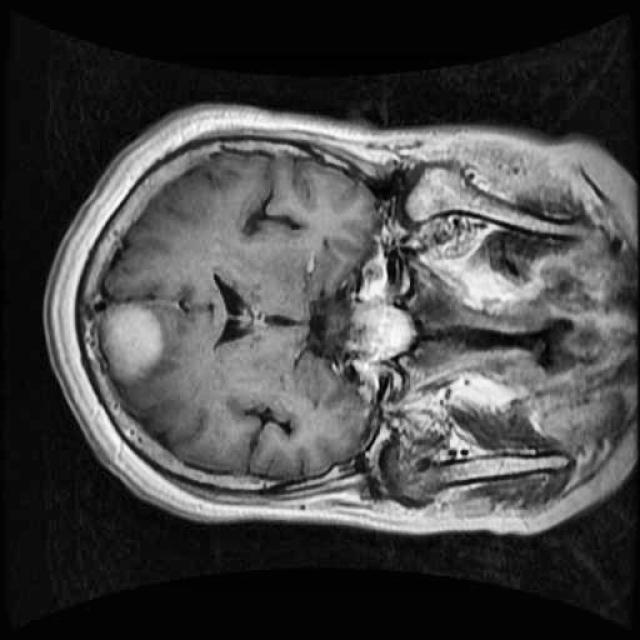Tumor: (84, 288, 183, 404)
